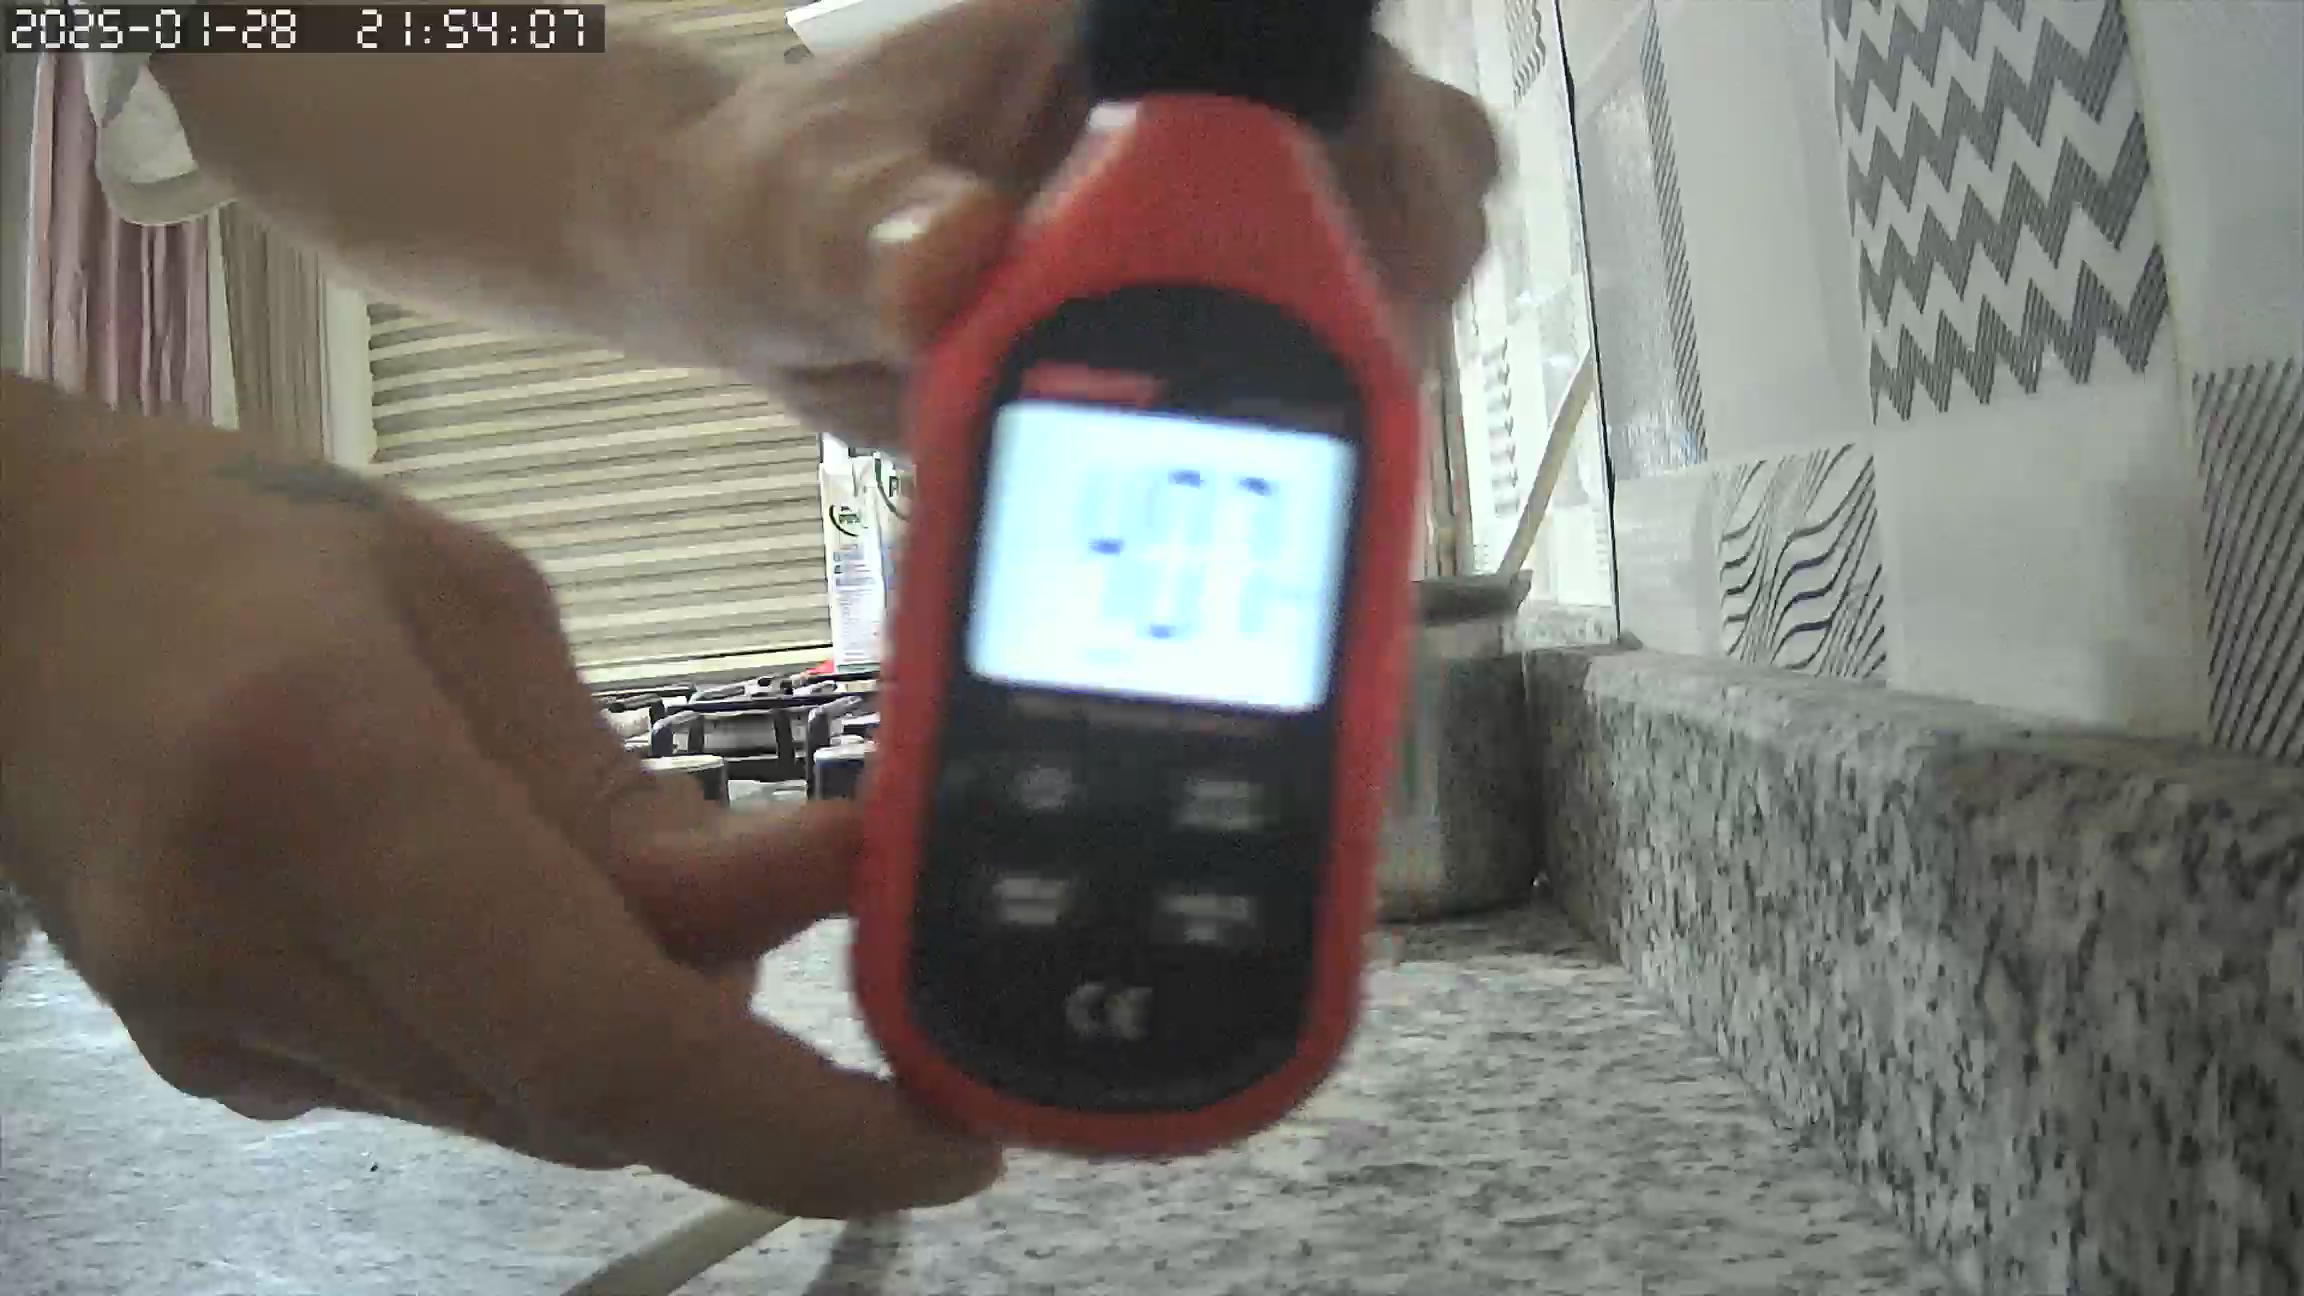screen: (968, 402, 1353, 715)
